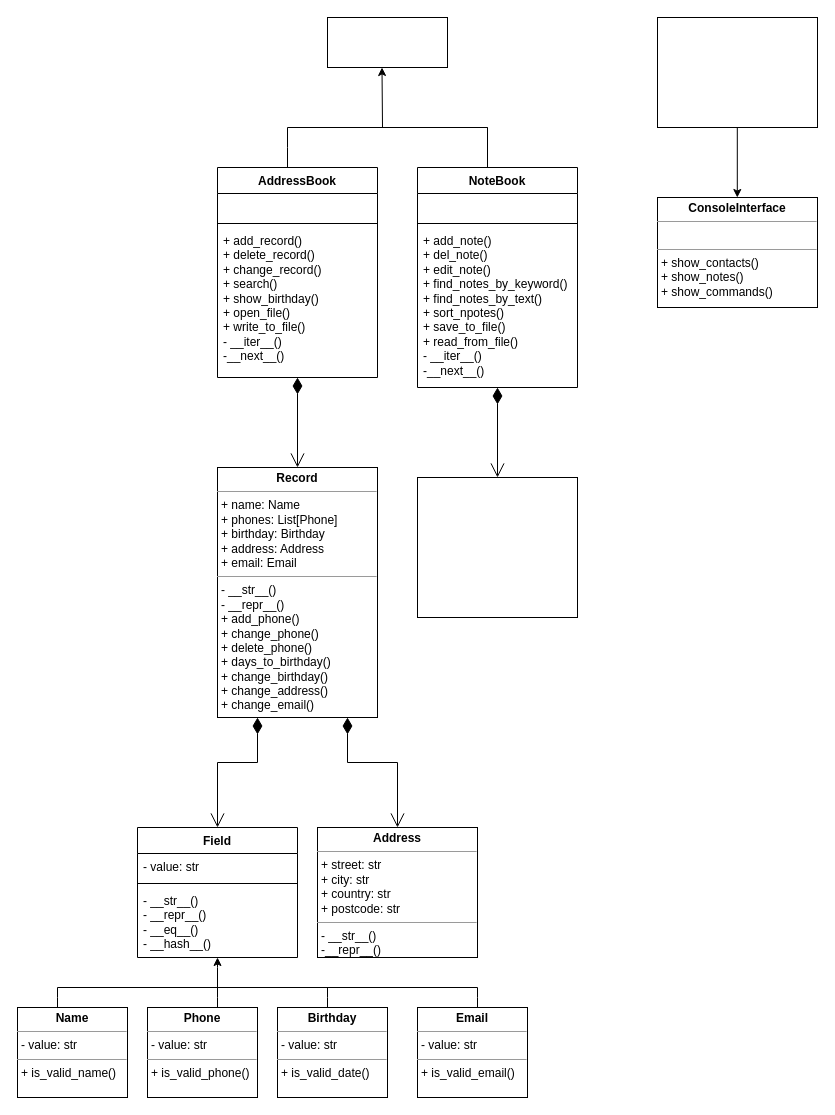
Image size: 835x1115. Some labels were removed from this diagram. The shapes that lost their labels are listed below. From the top down, each one's centre as x and y in pixels, then its label:
At [387,42]: "UserDict".
At [737,72]: "UserInterface + show_contacts() + show_notes() + show_commands()".
At [497,547]: "Note + text: str + id: str + tags: List[str] - __str__() - __repr__()".
